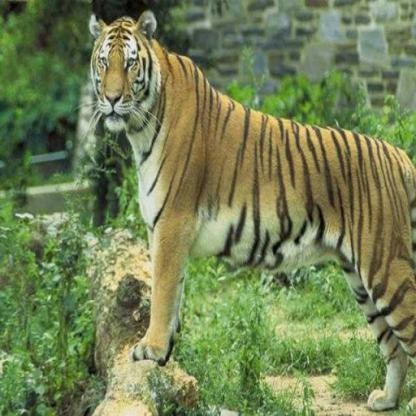Tiger: (45, 0, 415, 390)
